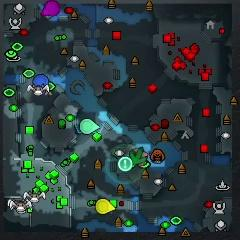Other: (119, 156, 132, 172)
p1: (33, 74, 49, 86)
p2: (80, 118, 100, 135)
p3: (40, 0, 61, 16)
p4: (96, 198, 115, 214)
x1: (134, 148, 148, 166)
x4: (129, 147, 146, 165)
